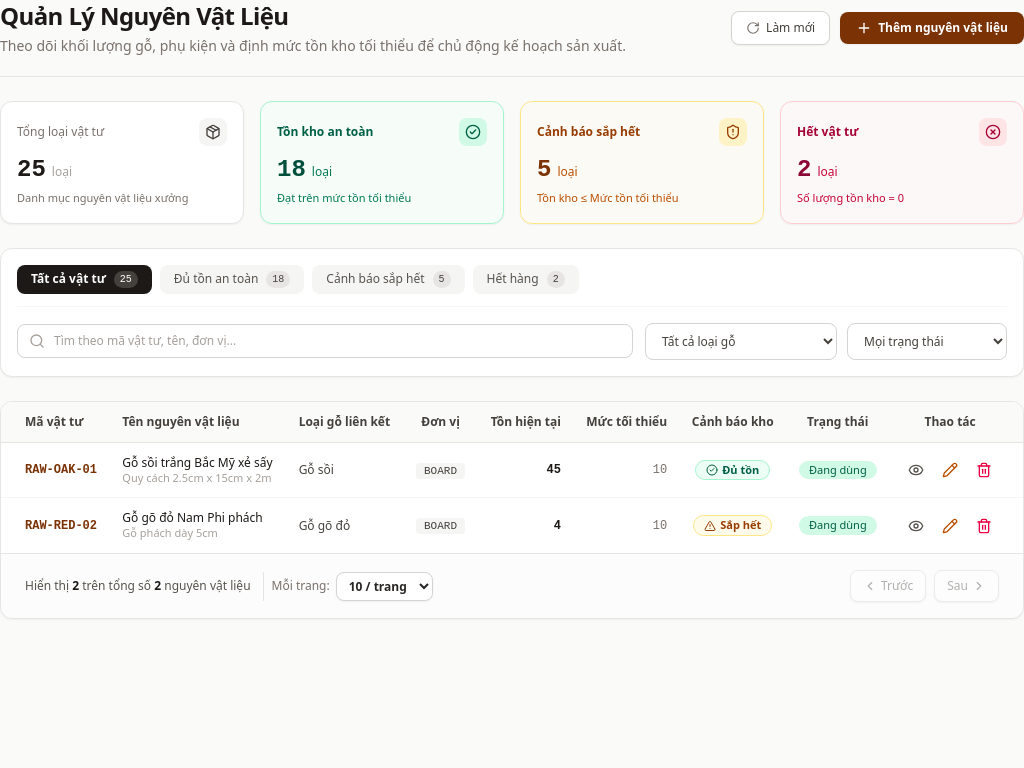
Test: ManageMaterialsPage Component › opens detail modal when clicking Eye icon button
This screenshot has width=1024, height=768.
Expected: the text "RAW-OAK-01" is shown, [1,442,110,498]
Click the button titled "Xem chi tiết" in the row of "RAW-OAK-01" at (916, 470), box [902,456,930,484]
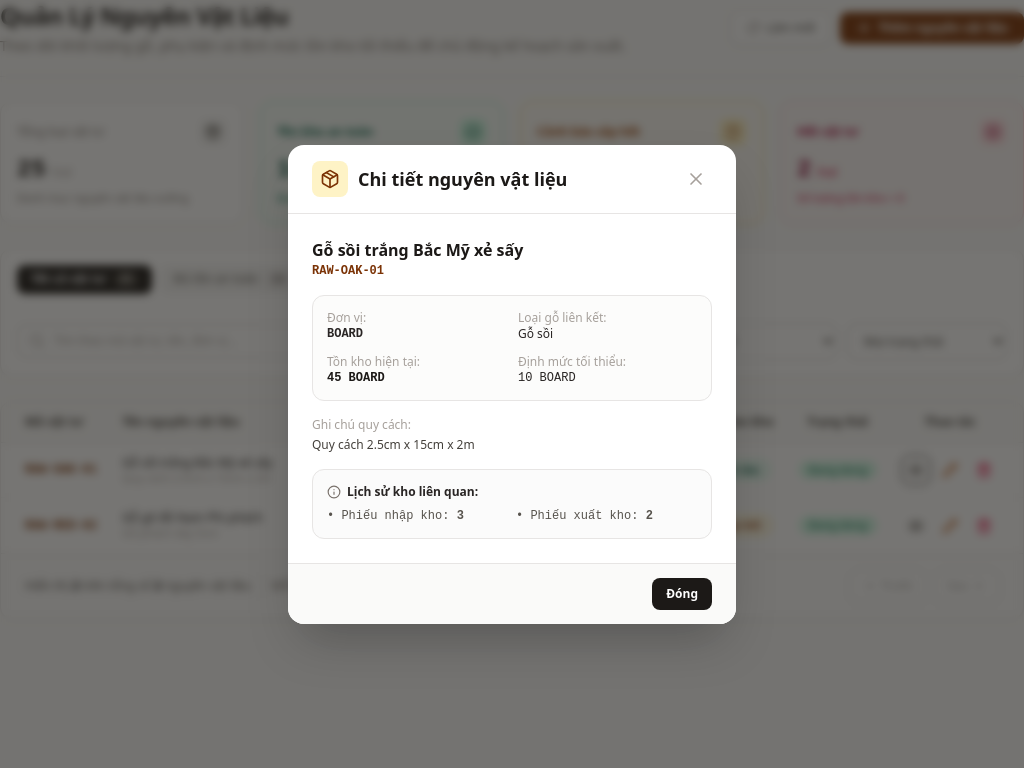
Expected: the heading "Chi tiết nguyên vật liệu" is shown, [358,164,567,192]
